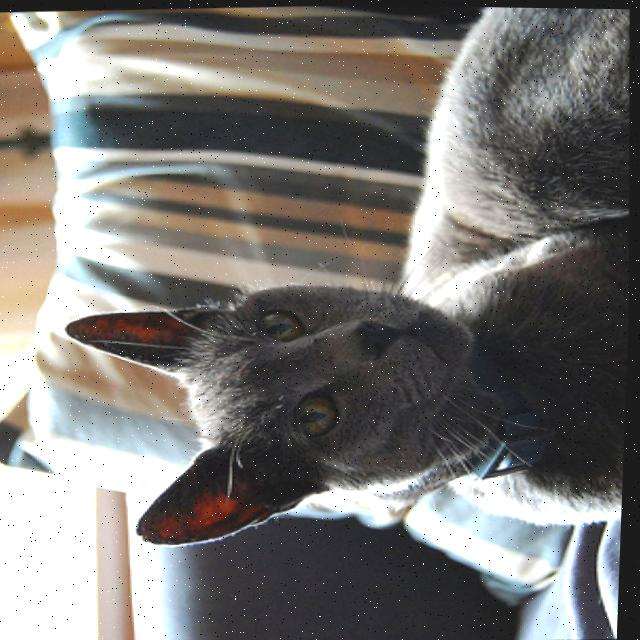Russian Blue: (45, 1, 640, 556)
